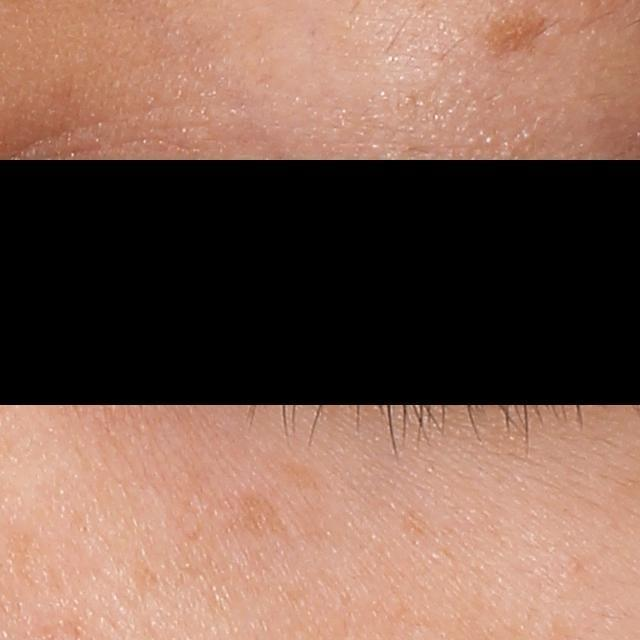melasma: (479, 9, 552, 60), (238, 488, 291, 540), (267, 460, 328, 499), (399, 504, 431, 541)
